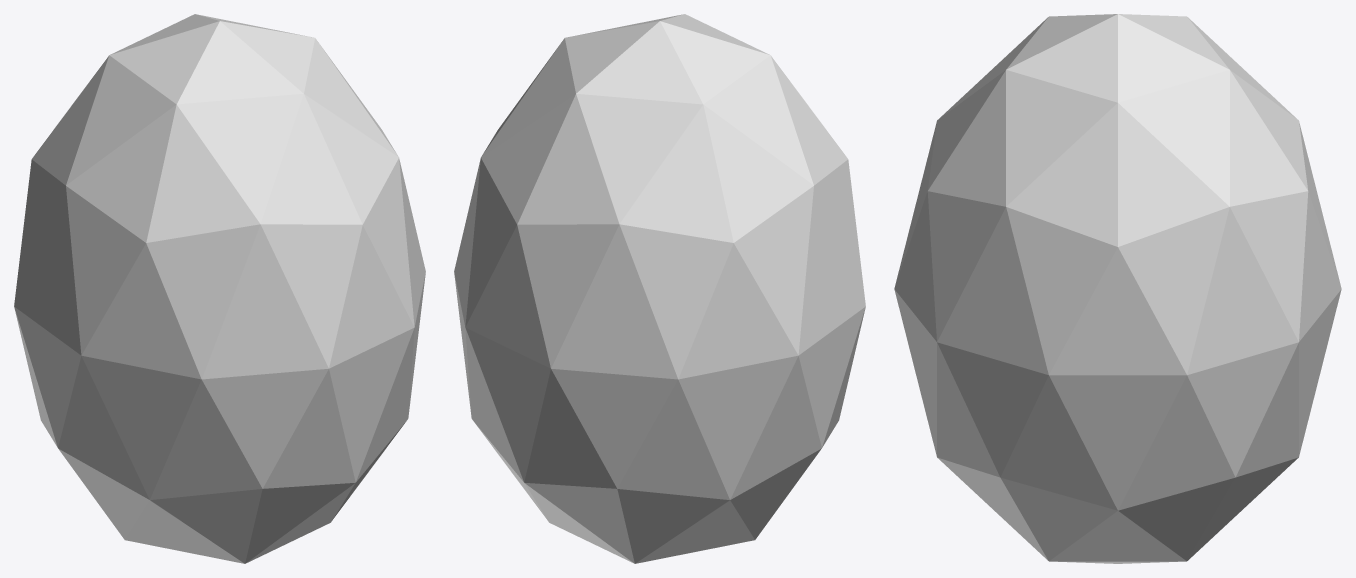
The model's file is egg.fbx.
The picture shows the model from 3 angles, left to right: view 1: azimuth 30°, elevation 25°; view 2: azimuth 150°, elevation 25°; view 3: azimuth 270°, elevation 25°; orthographic projection. The views are drawn at different scales.
Parts seen in each view (by area): view 1: Icosphere; view 2: Icosphere; view 3: Icosphere.
Boxes of the visible parts, bbox=[...] form: Icosphere: bbox=[14, 14, 425, 563]; Icosphere: bbox=[454, 14, 865, 563]; Icosphere: bbox=[894, 14, 1341, 563].
Size of the model in its own units: 4.89 by 7.28 by 5.36.
